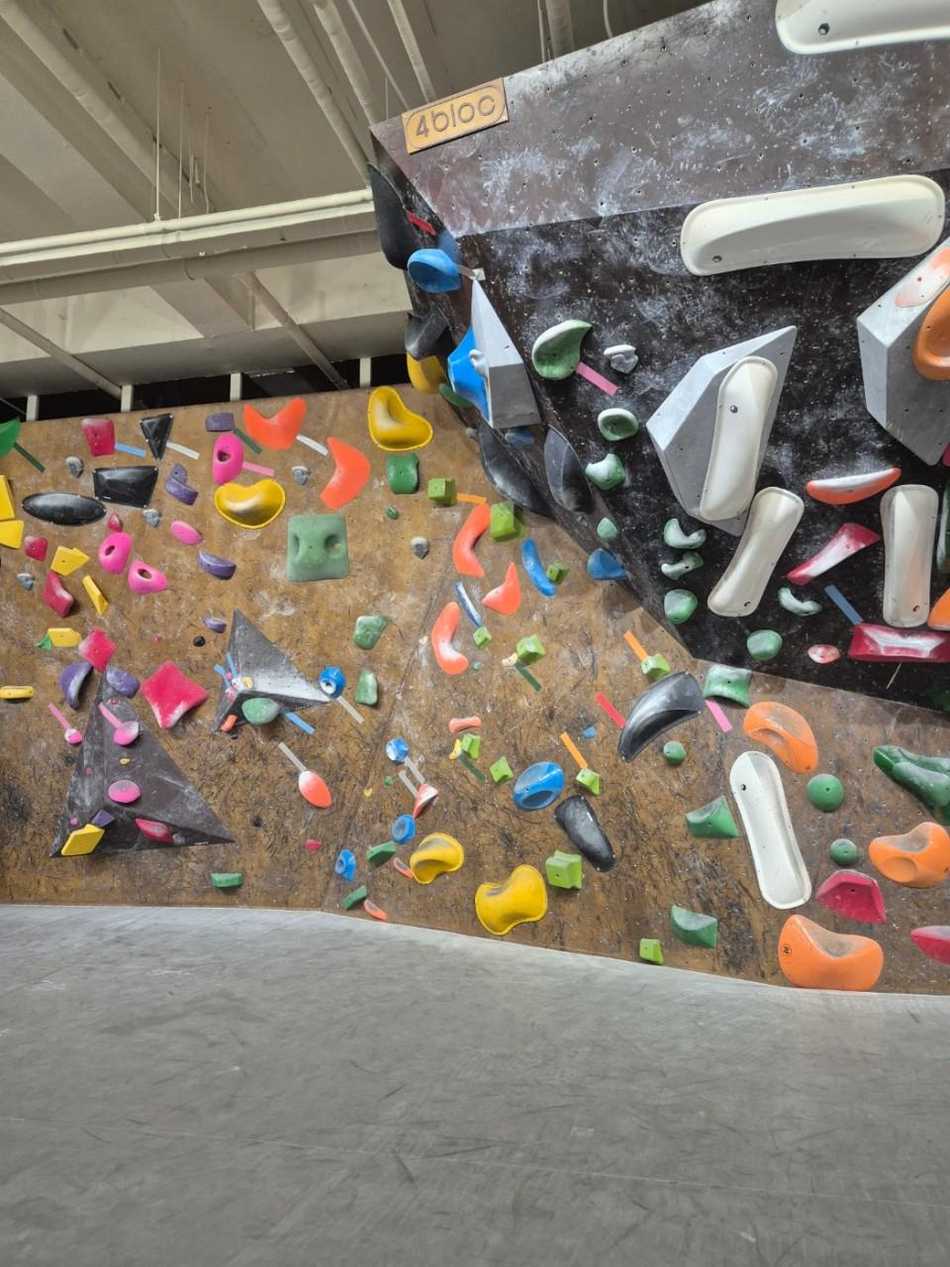hold: (681, 175, 944, 275), (699, 357, 777, 521), (729, 752, 810, 909), (709, 487, 804, 617), (776, 0, 949, 54), (881, 484, 937, 627), (779, 914, 883, 990), (618, 671, 704, 761), (479, 425, 549, 516), (874, 744, 949, 824), (370, 166, 426, 268), (789, 523, 880, 584), (869, 821, 949, 887), (743, 701, 816, 773), (475, 865, 547, 935), (141, 661, 208, 729), (555, 796, 615, 869), (368, 387, 433, 452), (545, 428, 594, 513), (847, 623, 949, 662), (287, 515, 347, 581), (893, 240, 949, 308), (447, 328, 488, 419), (531, 320, 593, 379), (816, 871, 885, 924), (807, 467, 901, 505), (214, 479, 285, 529), (320, 438, 370, 509), (912, 287, 949, 379), (243, 397, 306, 448), (409, 833, 463, 884), (92, 466, 157, 508), (452, 503, 489, 576), (22, 493, 106, 525), (431, 602, 467, 674), (513, 762, 564, 809), (407, 248, 459, 293), (687, 796, 738, 838), (406, 310, 447, 359), (484, 560, 520, 614), (521, 538, 555, 595), (705, 664, 750, 705), (670, 906, 715, 946), (60, 659, 93, 708), (79, 627, 115, 671), (212, 433, 243, 484), (910, 926, 949, 965), (165, 462, 200, 505), (408, 353, 445, 393), (43, 569, 73, 617), (544, 850, 581, 888), (586, 453, 624, 489), (61, 824, 103, 856), (99, 531, 131, 573), (663, 518, 706, 549), (141, 415, 172, 458), (808, 774, 843, 812), (454, 581, 482, 628), (386, 453, 418, 494), (489, 502, 522, 540), (598, 408, 637, 440), (129, 561, 166, 594), (778, 587, 820, 616), (299, 771, 332, 807), (50, 546, 88, 577), (588, 549, 627, 579), (661, 552, 703, 579), (354, 615, 387, 649), (665, 589, 697, 624), (747, 630, 782, 661), (603, 343, 637, 374), (82, 575, 107, 617), (82, 421, 113, 454), (198, 551, 235, 578), (106, 666, 138, 697), (242, 699, 280, 725), (928, 588, 949, 631), (516, 634, 545, 664), (136, 818, 172, 842), (440, 383, 474, 408), (354, 670, 378, 705), (428, 477, 456, 506), (319, 666, 345, 697), (0, 419, 20, 459), (829, 838, 857, 866), (641, 653, 670, 680), (413, 784, 436, 818), (169, 521, 201, 545), (108, 779, 140, 803), (112, 723, 141, 749), (367, 840, 397, 865), (489, 756, 513, 783), (47, 628, 81, 647), (391, 815, 414, 843), (0, 521, 23, 549), (0, 474, 14, 520), (335, 849, 355, 881), (205, 412, 235, 432), (386, 737, 409, 763), (577, 767, 599, 794), (459, 732, 480, 759), (211, 872, 242, 890), (343, 886, 367, 909), (449, 716, 481, 733), (662, 741, 685, 764), (639, 941, 662, 964), (547, 560, 568, 584), (26, 537, 47, 561), (0, 685, 33, 700), (364, 899, 387, 920), (597, 518, 618, 540), (393, 856, 414, 878), (92, 809, 115, 828), (471, 627, 491, 648), (65, 456, 83, 477), (411, 536, 428, 558), (64, 729, 85, 746), (142, 508, 160, 527), (293, 465, 311, 484), (17, 571, 35, 589), (202, 617, 225, 631), (448, 739, 462, 759), (221, 715, 237, 731), (108, 513, 122, 531), (305, 839, 322, 852), (502, 653, 518, 666), (385, 506, 399, 520), (240, 677, 252, 689), (583, 727, 596, 738), (194, 636, 204, 646), (88, 768, 96, 779), (120, 756, 130, 764), (384, 776, 392, 786), (364, 788, 372, 797), (154, 634, 161, 641), (70, 817, 75, 826)
volume: (649, 327, 797, 541), (51, 683, 234, 856), (858, 239, 949, 462), (217, 609, 334, 731), (471, 279, 539, 429)
